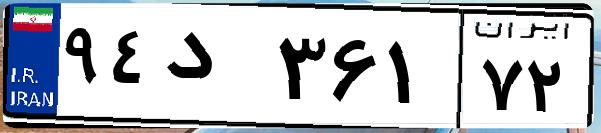1: (385, 28, 445, 110)
2: (525, 38, 570, 115)
3: (270, 28, 330, 110)
4: (110, 28, 158, 98)
6: (330, 28, 385, 110)
7: (475, 38, 525, 113)
9: (57, 26, 110, 100)
د: (158, 20, 270, 120)
